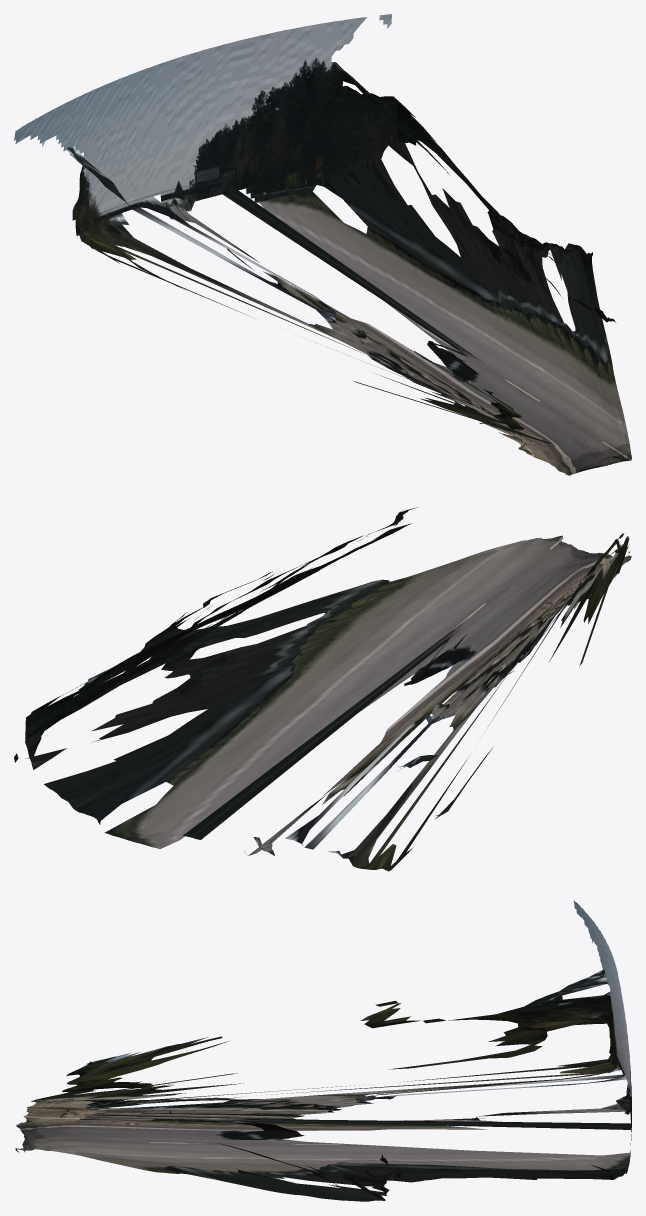
The picture shows the model from 3 angles, top to bottom: view 1: azimuth 30°, elevation 25°; view 2: azimuth 150°, elevation 25°; view 3: azimuth 270°, elevation 25°; orthographic projection. The views are drawn at different scales.
Visible parts, largest first — view 1: defaultobject; view 2: defaultobject; view 3: defaultobject.
Boxes of the visible parts, left/top/right/bottom form: defaultobject: left=14, top=14, right=631, bottom=475; defaultobject: left=14, top=507, right=631, bottom=871; defaultobject: left=15, top=900, right=631, bottom=1201.
Bounding box in the file's own units: 31.55 × 11.98 × 44.89.
1 material, 1 textured.
